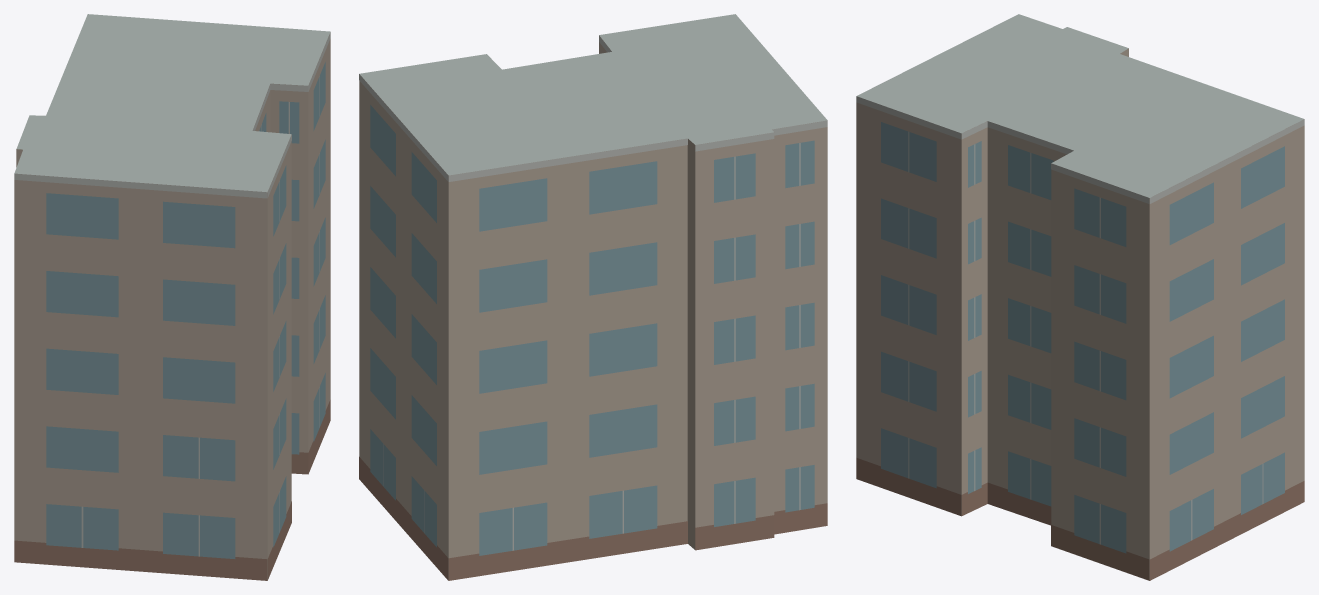
The model's file is survey-upis-32882631.glb.
3 renders of one model, left to right at view 1: azimuth 30°, elevation 25°; view 2: azimuth 150°, elevation 25°; view 3: azimuth 270°, elevation 25°, orthographic. The views are drawn at different scales.
Parts seen in each view (by area): view 1: survey-upis-32882631.tmp; view 2: survey-upis-32882631.tmp; view 3: survey-upis-32882631.tmp.
Part boxes in pixels (box(x1,y1,x2,y2)): survey-upis-32882631.tmp: box(14, 14, 330, 580); survey-upis-32882631.tmp: box(359, 14, 827, 580); survey-upis-32882631.tmp: box(856, 14, 1304, 580).
Bounding box in the file's own units: 15.47 × 15 × 15.92.
